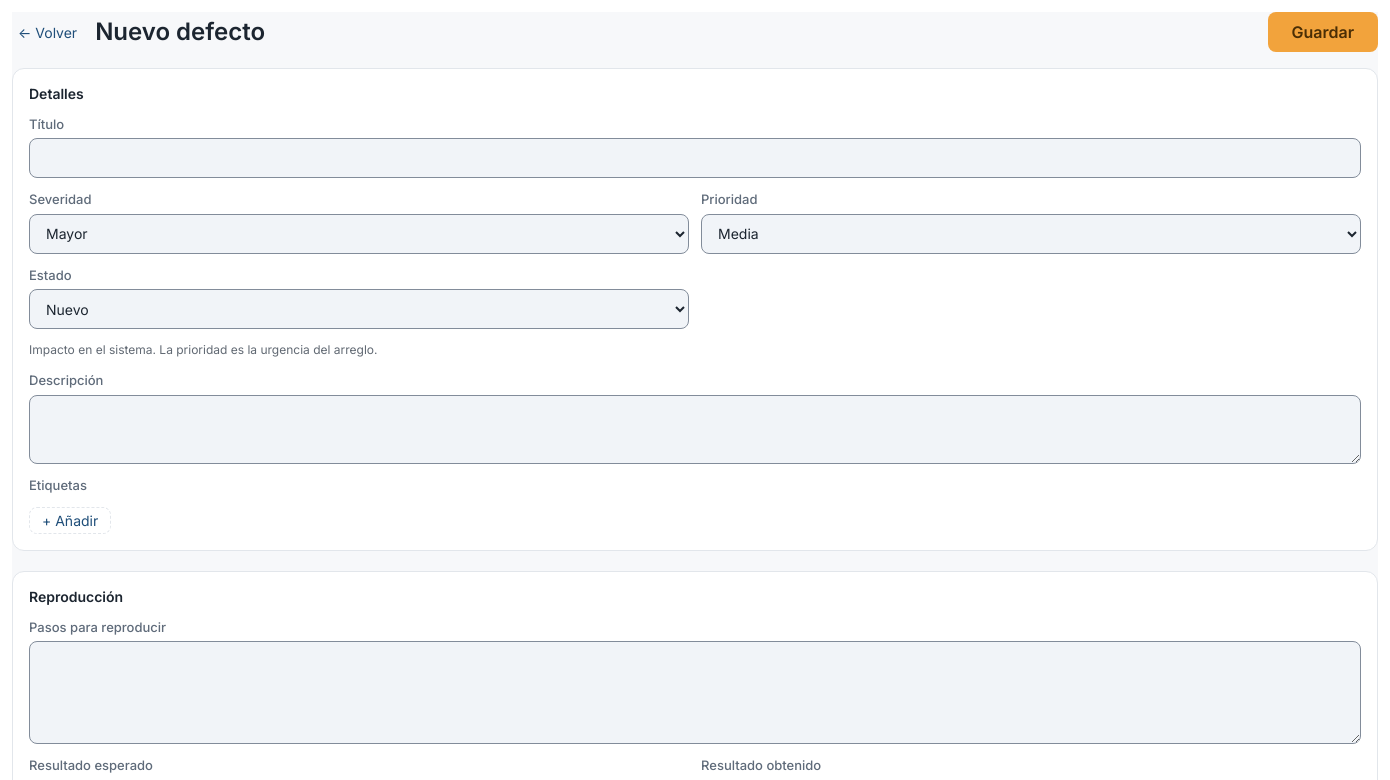
Test: DefectEditor › needs a title
The width and height of the screenshot is (1390, 780).
Click the button "Guardar".
click(1323, 32)  # box [1268,12,1378,52]
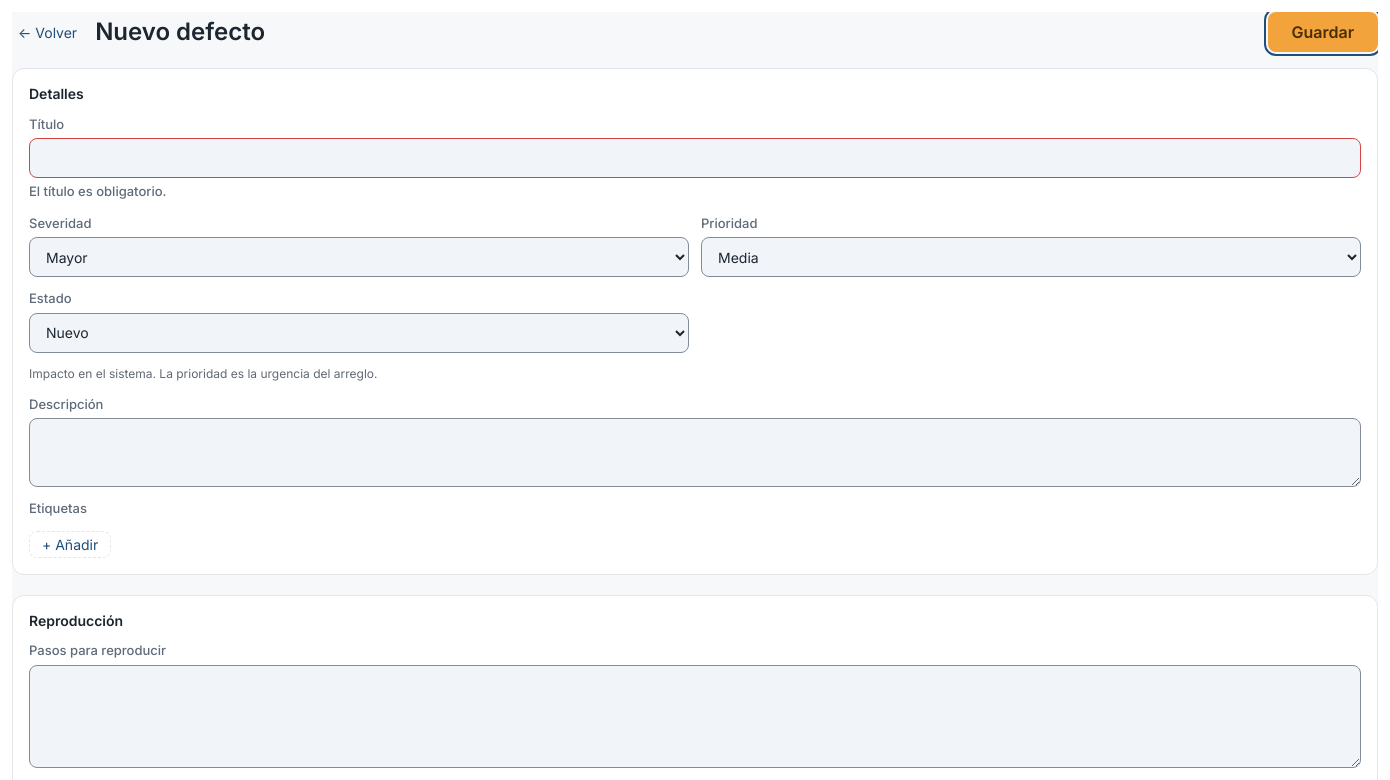
Check: the text "El título es obligatorio." is shown, box [29,183,166,199]
